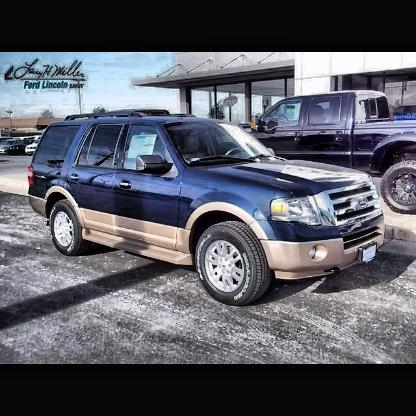Ford Expedition EL SUV 2009: (28, 115, 389, 310)
